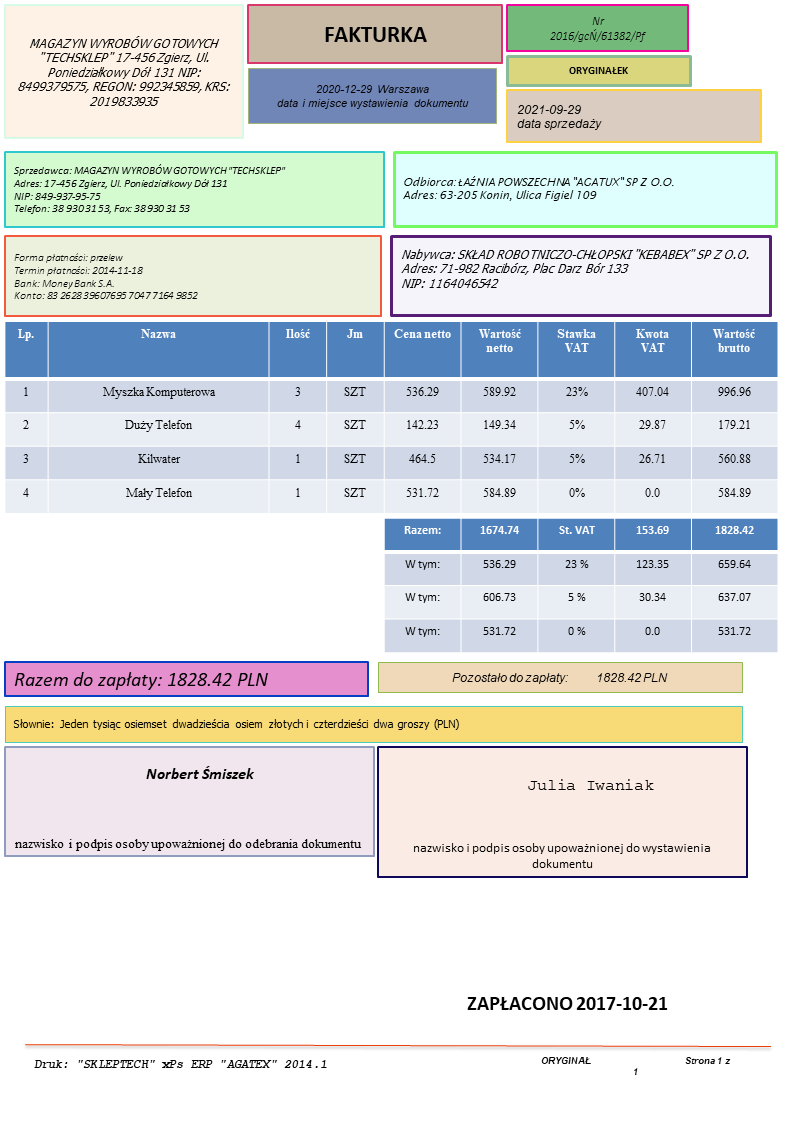Table: (4, 321, 779, 515), (383, 516, 778, 654)
TextBox: (398, 244, 753, 292), (15, 35, 234, 109), (10, 160, 289, 216), (10, 249, 201, 305), (11, 714, 462, 735), (410, 840, 713, 871), (401, 173, 677, 203), (12, 666, 270, 693), (11, 834, 364, 853), (274, 80, 472, 110), (538, 1050, 734, 1080), (463, 990, 668, 1017), (31, 1056, 331, 1074), (448, 667, 669, 688), (547, 15, 647, 46), (514, 102, 603, 134), (321, 23, 429, 48), (523, 776, 655, 795), (142, 763, 256, 783), (566, 62, 631, 79)
